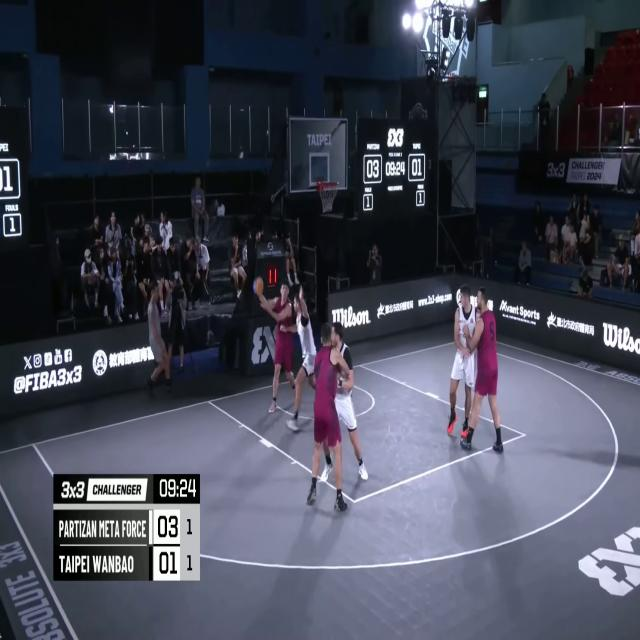ball: (251, 272, 268, 298)
hoop: (316, 178, 341, 218)
player: (316, 323, 368, 492), (306, 321, 346, 513), (462, 288, 504, 456), (286, 286, 323, 441), (260, 283, 300, 417), (446, 283, 476, 442)
